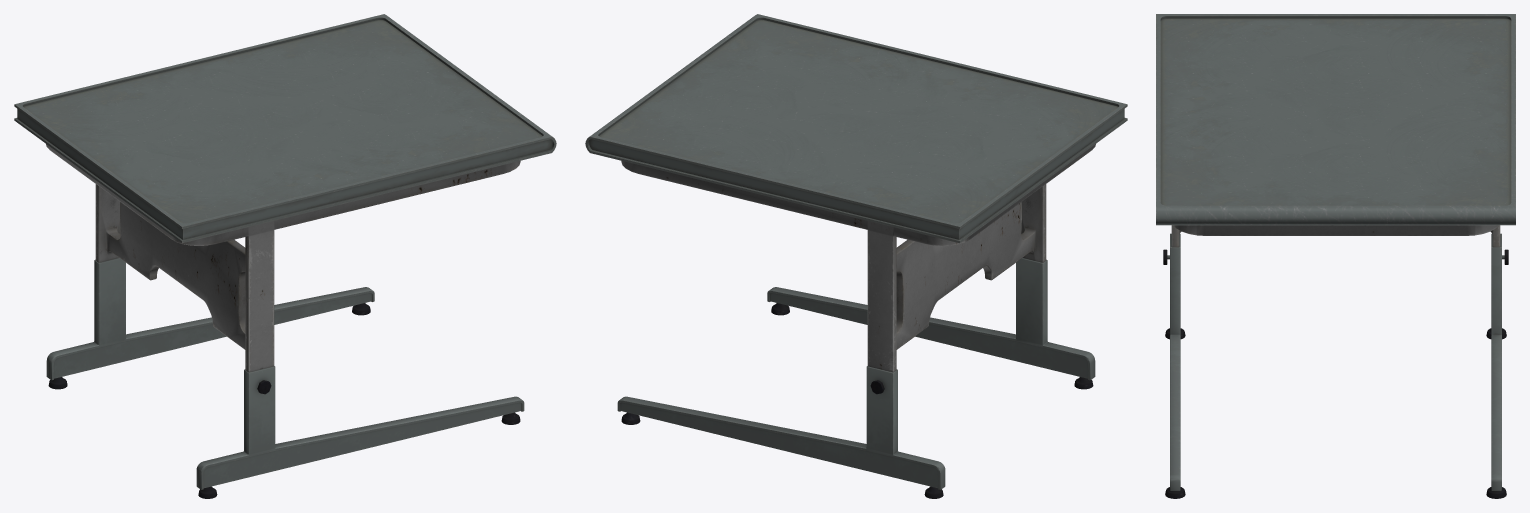
File: Furniture_Desk_B_1m_A1.obj
3 renders of one model, left to right at view 1: azimuth 30°, elevation 25°; view 2: azimuth 150°, elevation 25°; view 3: azimuth 270°, elevation 25°, orthographic. The views are drawn at different scales.
Parts seen in each view (by area): view 1: SM_Furniture_Desk_B_1m_A1_01; view 2: SM_Furniture_Desk_B_1m_A1_01; view 3: SM_Furniture_Desk_B_1m_A1_01.
Part boxes in pixels (x1,y1,x2,y2): SM_Furniture_Desk_B_1m_A1_01: [14, 14, 556, 498]; SM_Furniture_Desk_B_1m_A1_01: [585, 14, 1127, 498]; SM_Furniture_Desk_B_1m_A1_01: [1156, 14, 1515, 498].
Bounding box in the file's own units: 5210 × 3762 × 4040.
Materials: 1 (1 with a texture image).
